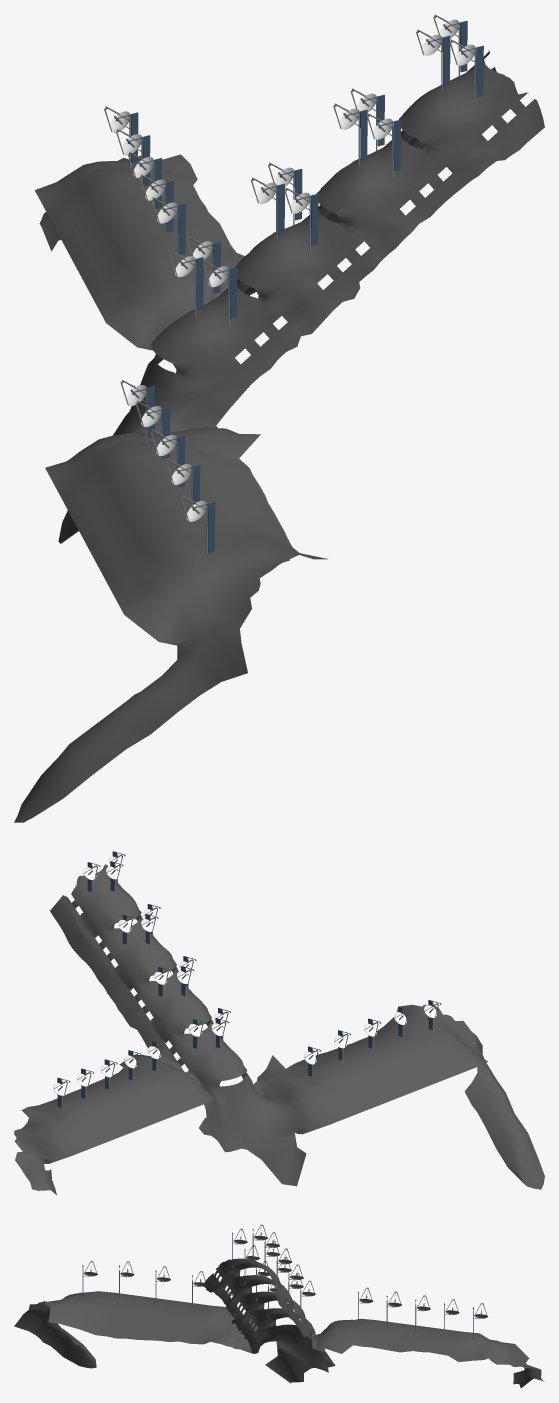
File: Overlay_3rd_Gal_Bottom.glb
The picture shows the model from 3 angles, top to bottom: view 1: azimuth 30°, elevation 25°; view 2: azimuth 150°, elevation 25°; view 3: azimuth 270°, elevation 25°; orthographic projection. The views are drawn at different scales.
Parts seen in each view (by area): view 1: Overlay_3rdGal_Bottom, LightTubes_3rdGal_Bottom_Mirrors, LightTubes_3rdGal_Bottom_LEDs, LightTubes_3rdGal_Bottom_Bases; view 2: Overlay_3rdGal_Bottom, LightTubes_3rdGal_Bottom_Mirrors, LightTubes_3rdGal_Bottom_LEDs, LightTubes_3rdGal_Bottom_Bases; view 3: Overlay_3rdGal_Bottom, LightTubes_3rdGal_Bottom_Mirrors, LightTubes_3rdGal_Bottom_LEDs, LightTubes_3rdGal_Bottom_Bases.
Boxes of the visible parts, x1,y1,x2,y2 form: Overlay_3rdGal_Bottom: [14, 50, 544, 822]; LightTubes_3rdGal_Bottom_Mirrors: [104, 14, 475, 521]; LightTubes_3rdGal_Bottom_LEDs: [116, 20, 483, 553]; LightTubes_3rdGal_Bottom_Bases: [126, 24, 476, 553]; Overlay_3rdGal_Bottom: [14, 864, 544, 1195]; LightTubes_3rdGal_Bottom_Mirrors: [53, 854, 438, 1095]; LightTubes_3rdGal_Bottom_LEDs: [57, 851, 441, 1107]; LightTubes_3rdGal_Bottom_Bases: [61, 853, 433, 1111]; Overlay_3rdGal_Bottom: [14, 1258, 544, 1387]; LightTubes_3rdGal_Bottom_Mirrors: [83, 1224, 488, 1318]; LightTubes_3rdGal_Bottom_LEDs: [82, 1229, 473, 1339]; LightTubes_3rdGal_Bottom_Bases: [83, 1234, 480, 1340].
Size of what is drawn, in the model's own units: 453 by 348 by 570.
